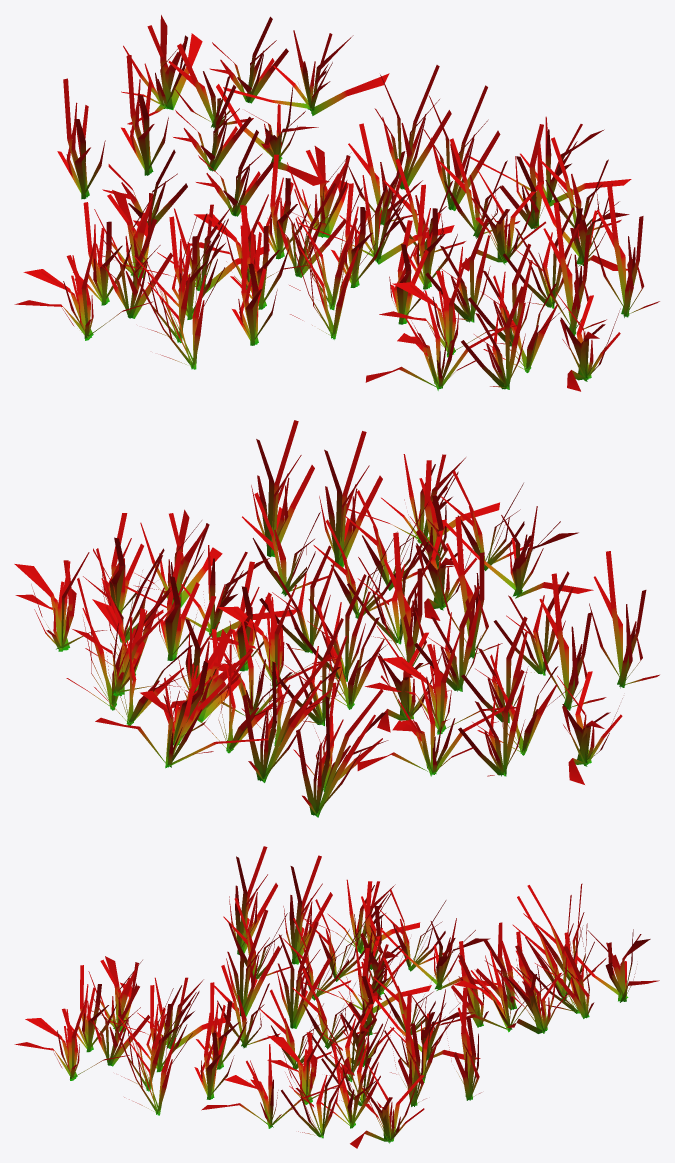
Rendered from NewerGrass.fbx.
3 renders of one model, top to bottom at view 1: azimuth 30°, elevation 25°; view 2: azimuth 150°, elevation 25°; view 3: azimuth 270°, elevation 25°, orthographic. The views are drawn at different scales.
Parts seen in each view (by area): view 1: polySurface63; view 2: polySurface63; view 3: polySurface63.
Boxes of the visible parts, box(x1,y1,x2,y2) form: polySurface63: box(14, 15, 659, 391); polySurface63: box(14, 420, 659, 817); polySurface63: box(14, 846, 659, 1148).
Bounding box in the file's own units: 289170 × 74388 × 331762.
